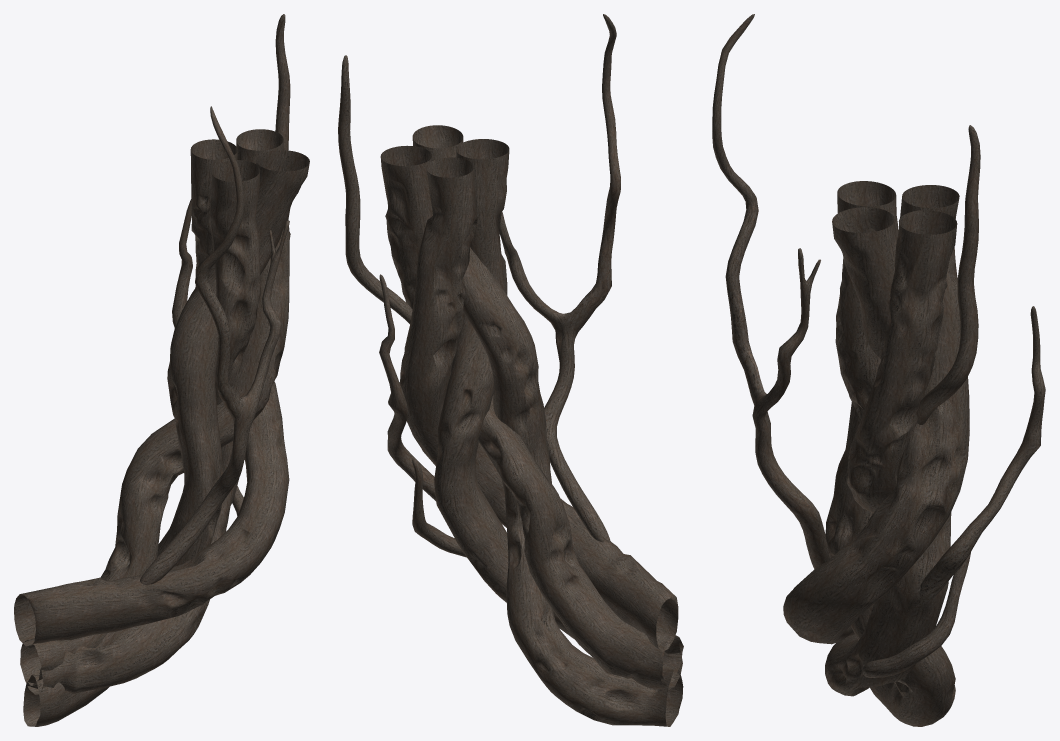
Rendered from SM_BigTree005.fbx.
The picture shows the model from 3 angles, left to right: view 1: azimuth 30°, elevation 25°; view 2: azimuth 150°, elevation 25°; view 3: azimuth 270°, elevation 25°; orthographic projection. The views are drawn at different scales.
Parts seen in each view (by area): view 1: SM_BigTree005; view 2: SM_BigTree005; view 3: SM_BigTree005.
Boxes of the visible parts, x1,y1,x2,y2 form: SM_BigTree005: [14, 14, 309, 726]; SM_BigTree005: [338, 14, 683, 726]; SM_BigTree005: [712, 14, 1045, 726].
Bounding box in the file's own units: 7710 × 15860 × 6374.
